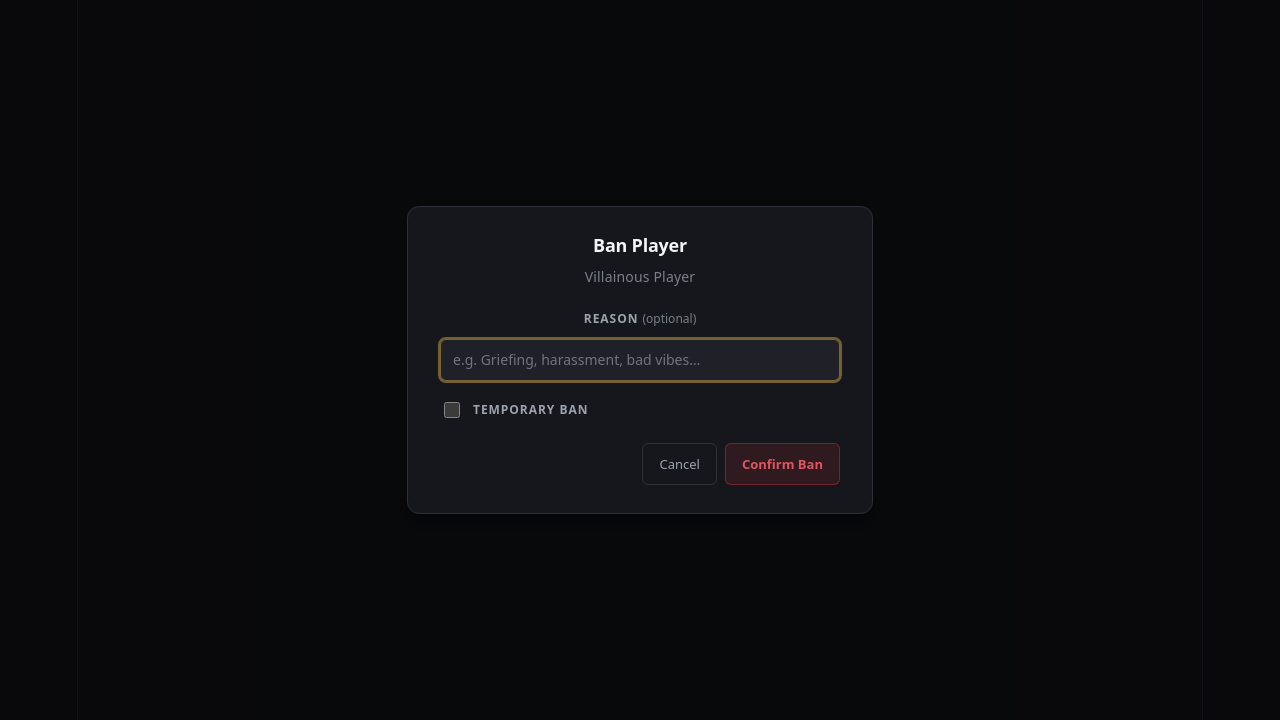
Scenario: BanModal › reveals date inputs when temporary checkbox is checked
Expected: the field labelled "ban ends" is not shown
Click the checkbox labelled "Temporary ban": (452, 410) top-left (444, 402), bottom-right (460, 418)
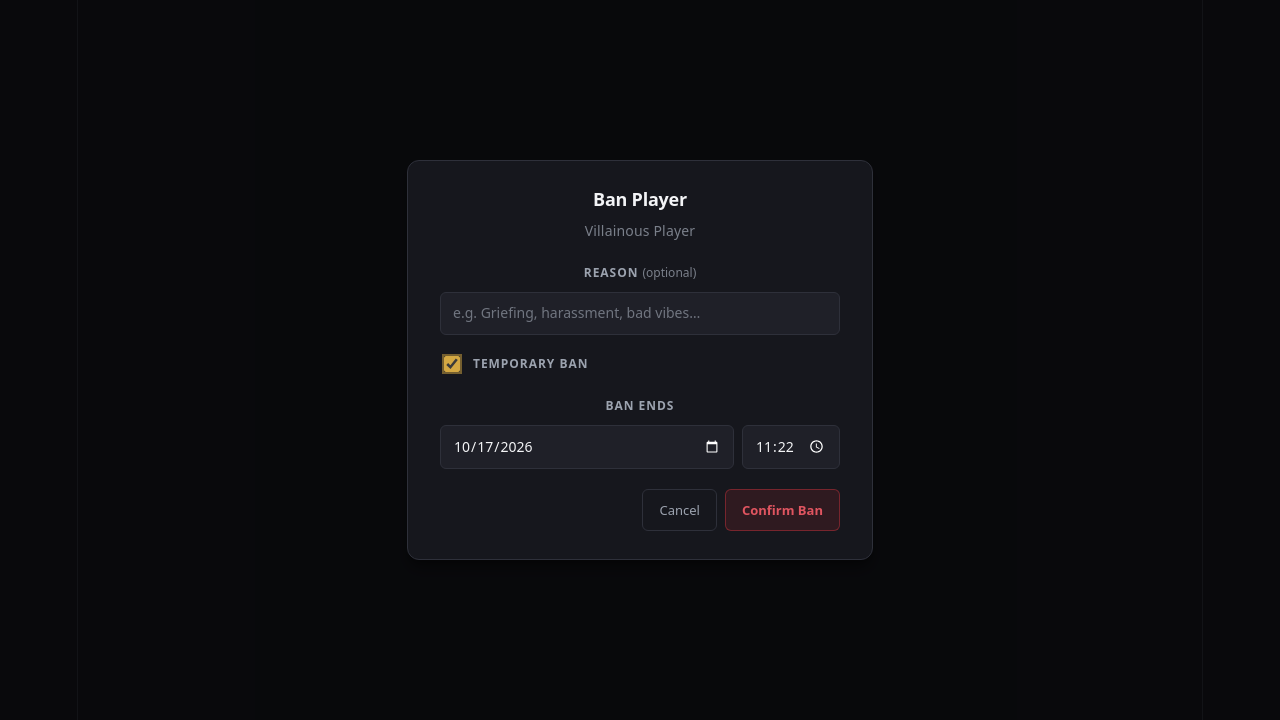
Expected: the date field labelled "Ban ends" is shown, top-left (440, 425), bottom-right (734, 469)
